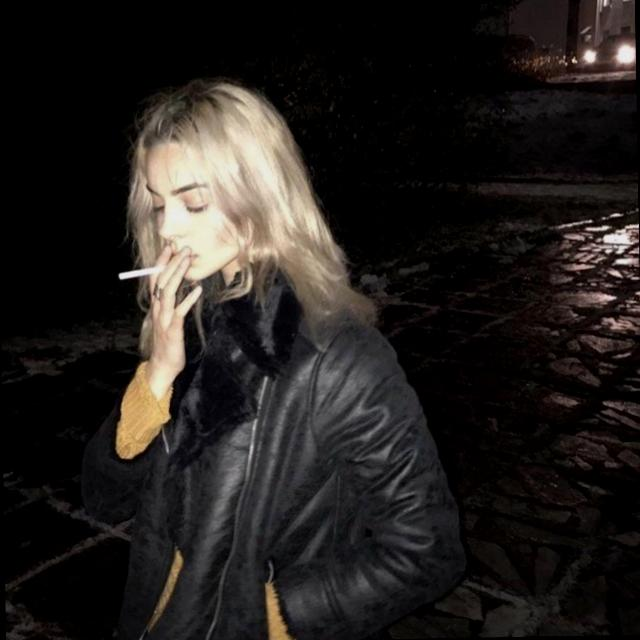smoke: (101, 257, 187, 289)
